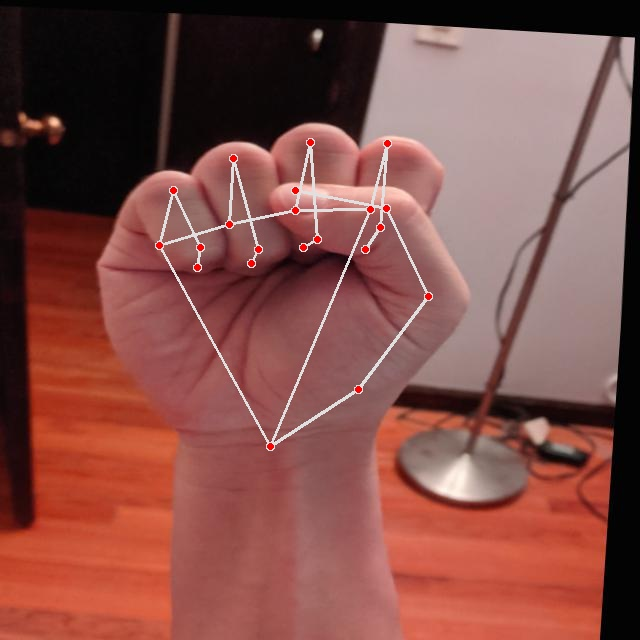S: (79, 96, 494, 450)
